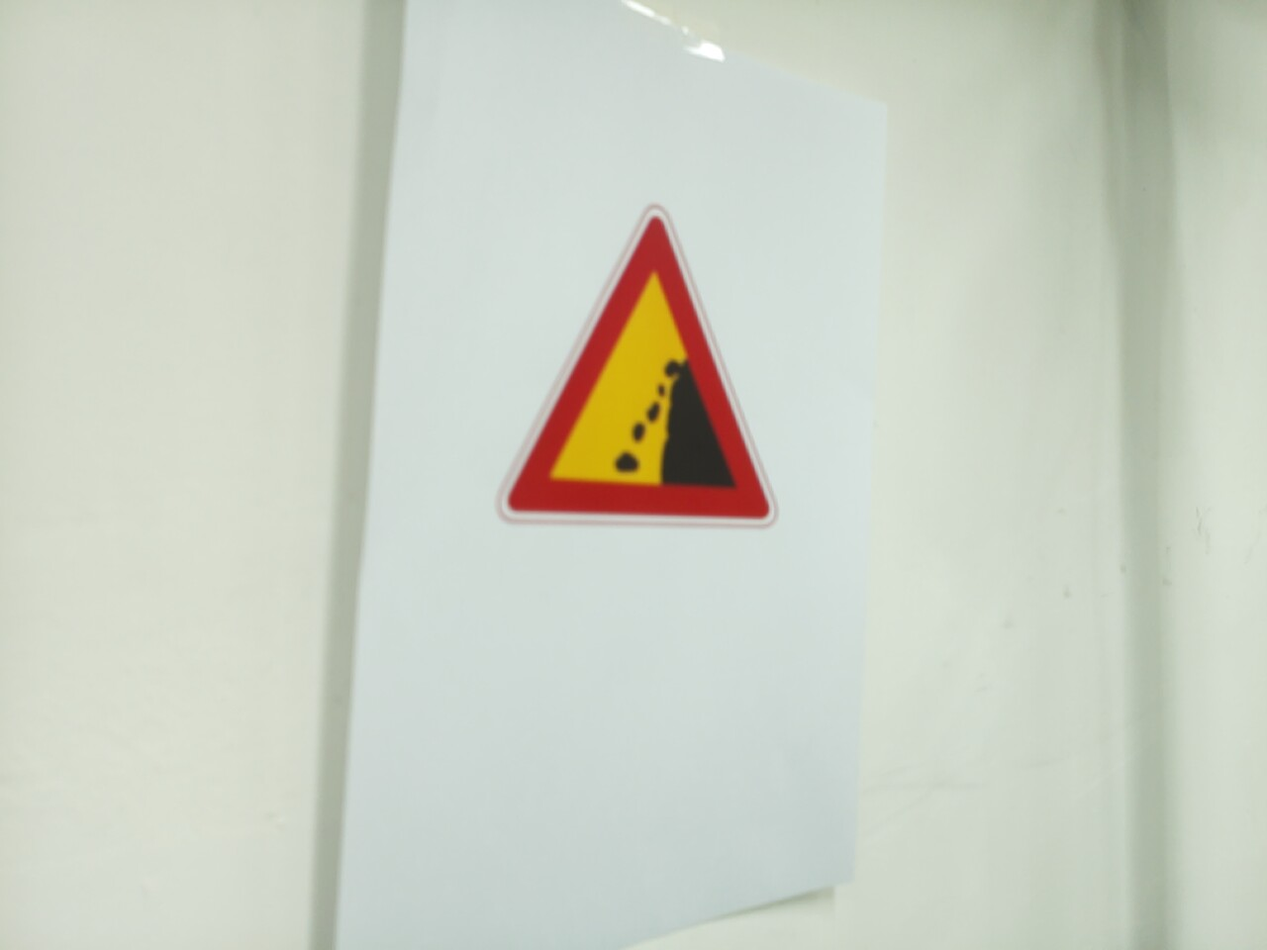falling_rocks: (499, 207, 778, 529)
